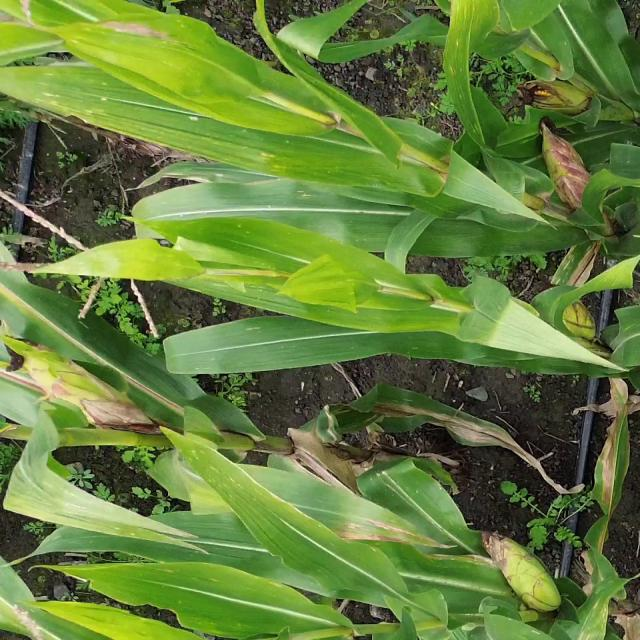gray-leaf-spot: (46, 484, 140, 538), (189, 448, 252, 499), (447, 6, 476, 102), (575, 592, 615, 640)
northern-leaf-blight: (36, 305, 165, 397), (356, 389, 458, 431), (328, 509, 431, 547), (598, 429, 626, 521)
southern-leaf-blight: (220, 127, 353, 177), (23, 63, 118, 116), (229, 222, 312, 270)
